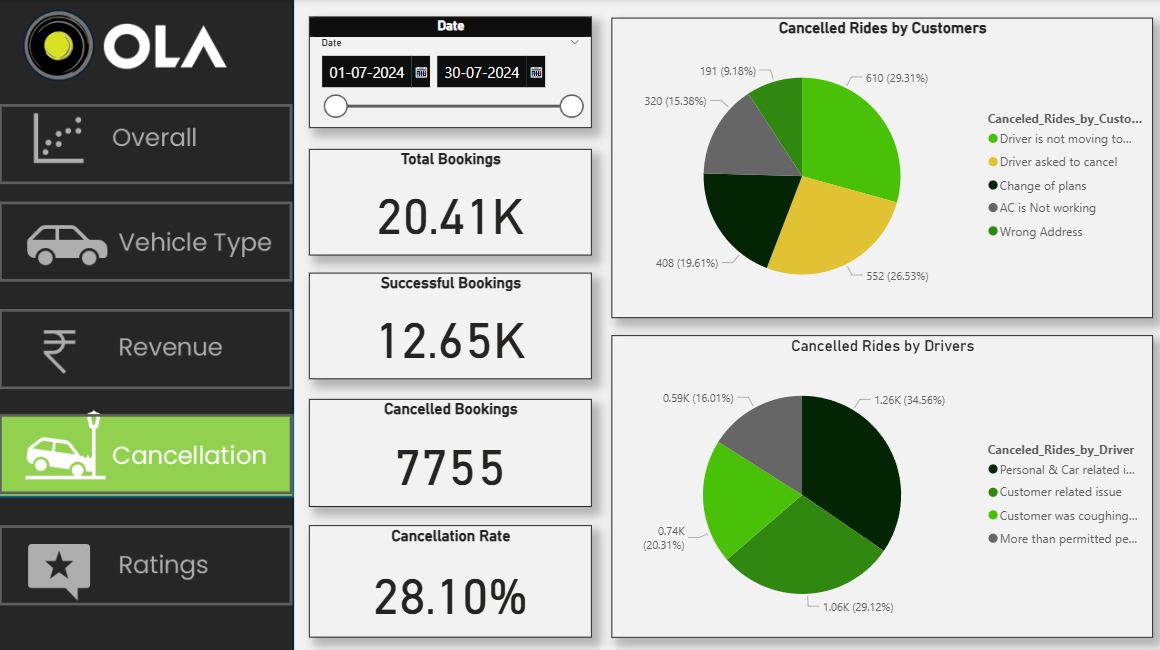

What the dashboard file says about the page in this screenshot:
{"tool":"powerbi","page":{"name":"cancellation","canvas":[1280,720],"ordinal":3},"visuals":[{"type":"actionButton","box":[0,222,322.1,88.1],"z":0},{"type":"actionButton","box":[0,340.2,322.1,88.1],"z":1000},{"type":"actionButton","box":[0,456,322.1,88.1],"z":2000},{"type":"actionButton","box":[0,114.6,322.1,88.1],"z":3000},{"type":"actionButton","box":[0,577.9,322.1,88.1],"z":4000},{"type":"pieChart","title":"Cancelled Rides by Customers","fields":{"Category":["July.Canceled_Rides_by_Customer"],"Y":["CountNonNull(July.Booking_Status)"]},"box":[672.4,20.6,594.2,329.3],"z":4001},{"type":"pieChart","title":"Cancelled Rides by Drivers","fields":{"Y":["CountNonNull(July.Booking_Status)"],"Category":["July.Canceled_Rides_by_Driver"]},"box":[672.4,369.1,594.2,332.1],"z":4002},{"type":"slicer","title":"Date","fields":{"Values":["July.Date"]},"box":[340.3,19.2,310.1,122.1],"z":4003},{"type":"card","title":"Successful Bookings","fields":{"Values":["Count(July.Booking_ID)"]},"box":[340.3,300.5,310.1,116.6],"z":4004},{"type":"card","title":"Cancelled Bookings","fields":{"Values":["CountNonNull(July.Canceled_Rides_by_Customer)"]},"box":[340.3,439.1,310.1,118],"z":4007},{"type":"card","title":"Total Bookings","fields":{"Values":["CountNonNull(July.Booking_ID)"]},"box":[340.3,164.7,310.1,116.6],"z":4009},{"type":"card","title":"Cancellation Rate","fields":{"Values":["July.Cancel booking %"]},"box":[340.3,577.7,310.1,123.5],"z":4010}]}

Visuals, with their boxes in screenshot pixels (x1, y1, x2, y2), scaled from the page's 1280x720 canvas onto the 1160x650 screenshot:
actionButton: crop(0, 200, 292, 280)
actionButton: crop(0, 307, 292, 387)
actionButton: crop(0, 412, 292, 491)
actionButton: crop(0, 103, 292, 183)
actionButton: crop(0, 522, 292, 601)
"Cancelled Rides by Customers" pieChart: crop(609, 19, 1148, 316)
"Cancelled Rides by Drivers" pieChart: crop(609, 333, 1148, 633)
"Date" slicer: crop(308, 17, 589, 128)
"Successful Bookings" card: crop(308, 271, 589, 377)
"Cancelled Bookings" card: crop(308, 396, 589, 503)
"Total Bookings" card: crop(308, 149, 589, 254)
"Cancellation Rate" card: crop(308, 522, 589, 633)
